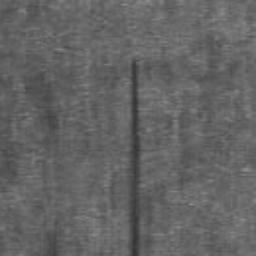Scratches: (126, 56, 140, 256)
